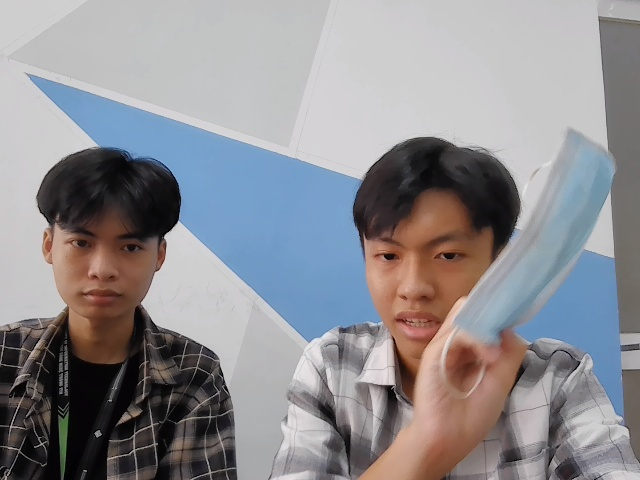human: (356, 142, 521, 349), (37, 147, 184, 324)
mask: (459, 127, 616, 356)
